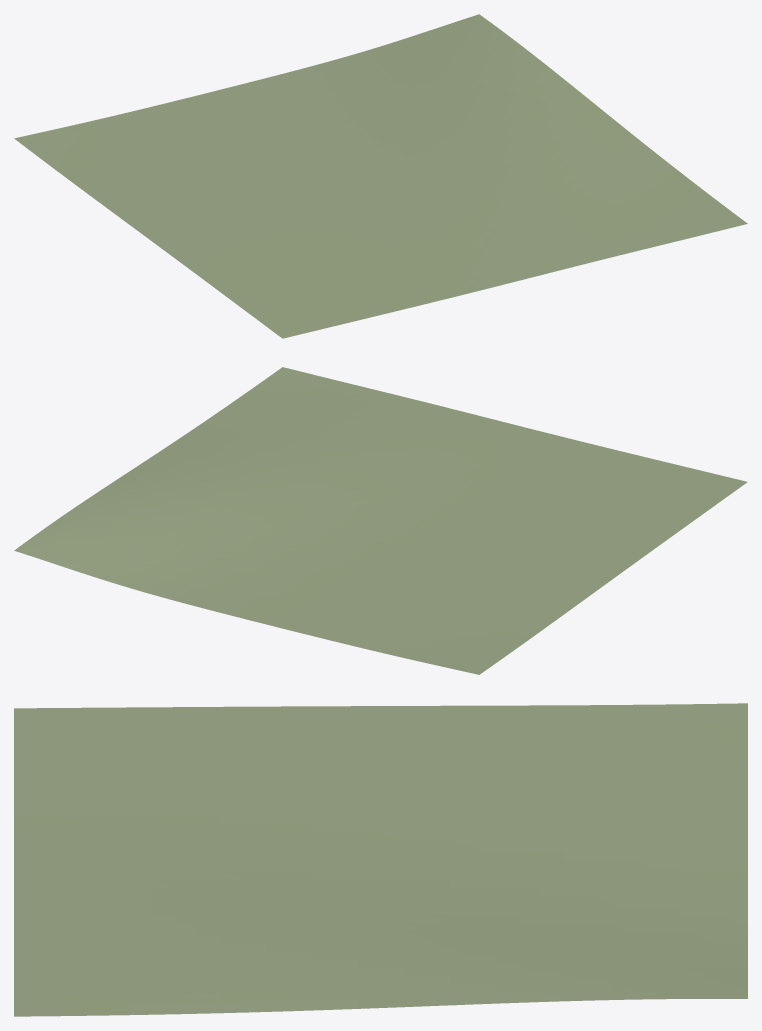
File: desert-2-10.glb
3 renders of one model, top to bottom at view 1: azimuth 30°, elevation 25°; view 2: azimuth 150°, elevation 25°; view 3: azimuth 270°, elevation 25°, orthographic. The views are drawn at different scales.
Parts seen in each view (by area): view 1: desert-2-10; view 2: desert-2-10; view 3: desert-2-10.
Part boxes in pixels (x1,y1,x2,y2): desert-2-10: [14, 14, 747, 338]; desert-2-10: [14, 367, 747, 674]; desert-2-10: [14, 703, 747, 1016].
Size of the model in its own units: 512 by 15.42 by 512.
